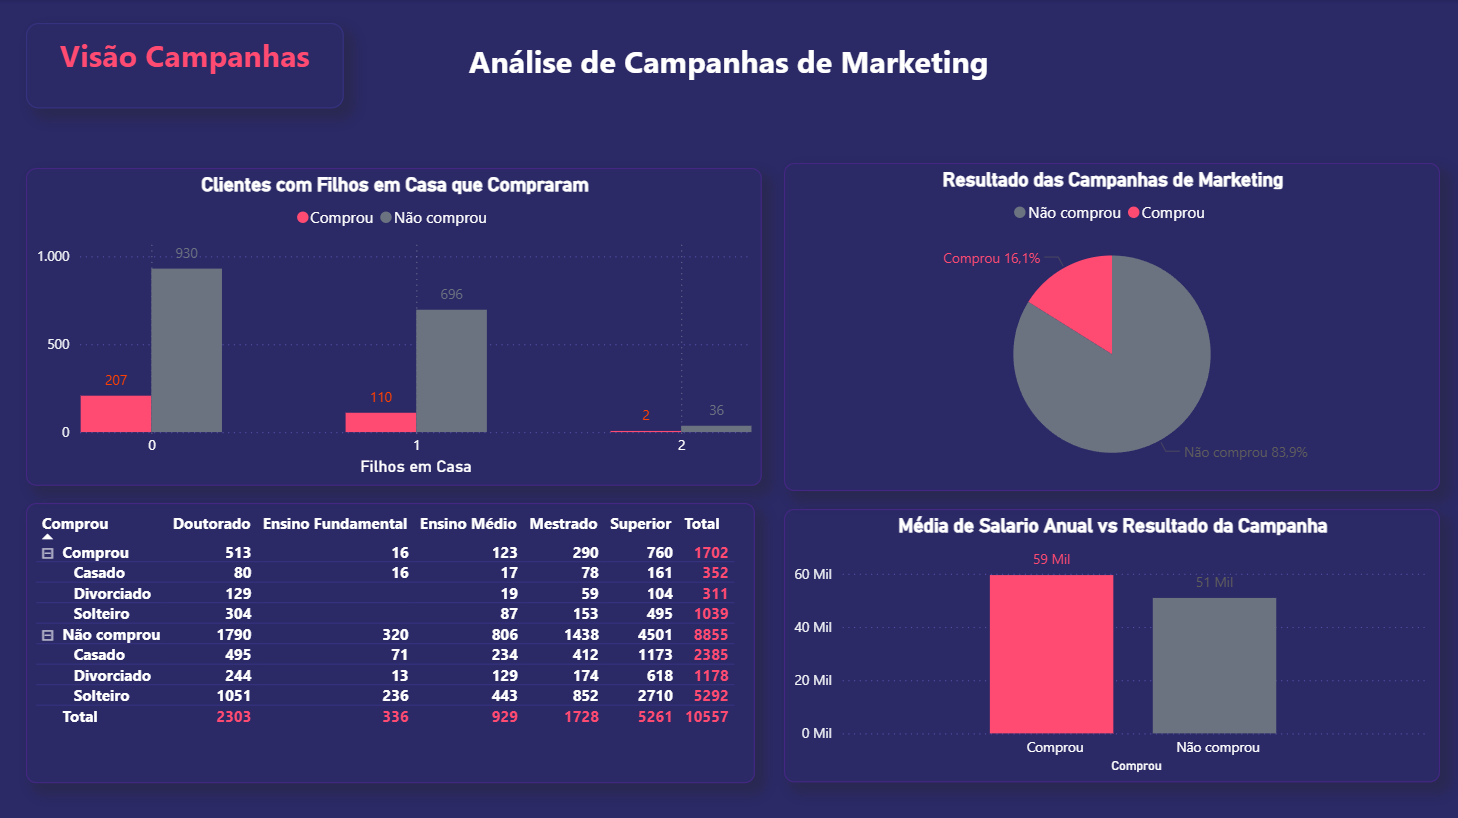

What the dashboard file says about the page in this screenshot:
{"tool":"powerbi","page":{"name":"Visão Campanhas","canvas":[1280,720],"ordinal":3},"visuals":[{"type":"textbox","box":[379.3,30.5,521.3,78.6],"z":0},{"type":"clusteredColumnChart","title":"Clientes com Filhos em Casa que Compraram ","fields":{"Series":["dados_mkt.Comprou"],"Category":["dados_mkt.Filhos em Casa"],"Y":["CountNonNull(dados_mkt.ID)"]},"box":[22.7,148.8,646.3,279.2],"z":1000},{"type":"textbox","box":[22.7,21.3,279.2,75.1],"z":2000},{"type":"pieChart","title":"Resultado das Campanhas de Marketing","fields":{"Category":["dados_mkt.Comprou"],"Y":["CountNonNull(dados_mkt.ID)"]},"box":[688,144,576,288],"z":3000},{"type":"pivotTable","fields":{"Rows":["dados_mkt.Comprou","dados_mkt.Estado Civil"],"Columns":["dados_mkt.Escolaridade"],"Values":["Sum(dados_mkt.Numero Visitas WebSite Mes)"]},"box":[22.9,442.5,640,245.9],"z":4000},{"type":"columnChart","title":"Média de Salario Anual vs Resultado da Campanha","fields":{"Y":["Avg(dados_mkt.Salario Anual)"],"Category":["dados_mkt.Comprou"]},"box":[688,448,576,240],"z":5000}]}

Visuals, with their boxes in screenshot pixels (x1, y1, x2, y2), scaled from the page's 1280x720 canvas onto the 1458x818 screenshot:
textbox: crop(432, 35, 1026, 124)
"Clientes com Filhos em Casa que Compraram " clusteredColumnChart: crop(26, 169, 762, 486)
textbox: crop(26, 24, 344, 110)
"Resultado das Campanhas de Marketing" pieChart: crop(784, 164, 1440, 491)
pivotTable - dados_mkt.Comprou x dados_mkt.Estado Civil: crop(26, 503, 755, 782)
"Média de Salario Anual vs Resultado da Campanha" columnChart: crop(784, 509, 1440, 782)
